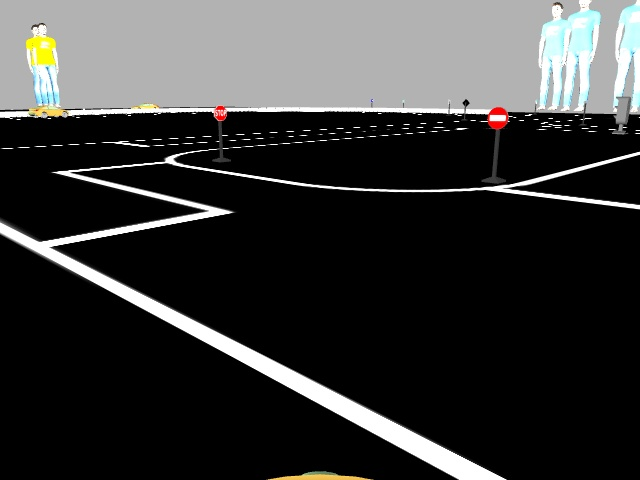NoEntry: (486, 107, 507, 130)
Stop: (212, 104, 227, 120)
